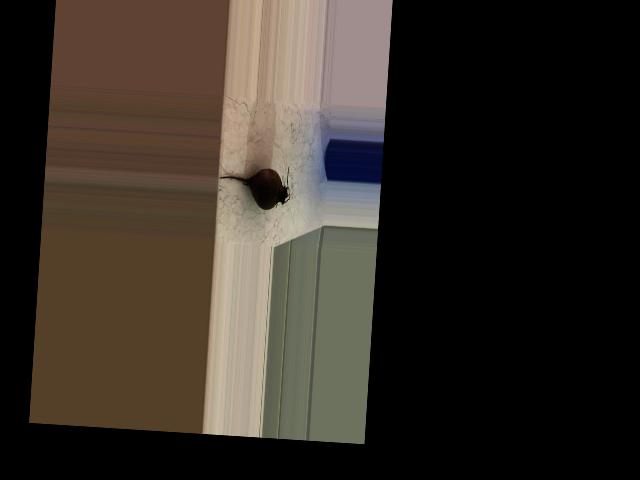beet: (217, 162, 291, 210)
